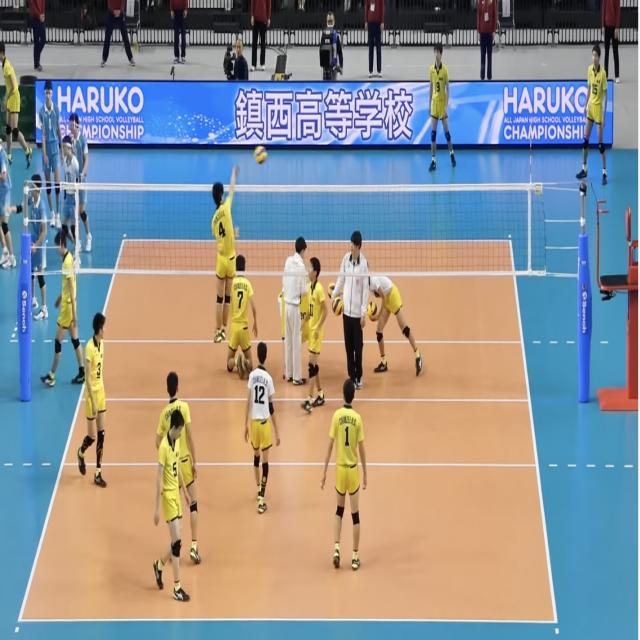spike: (208, 138, 266, 353)
